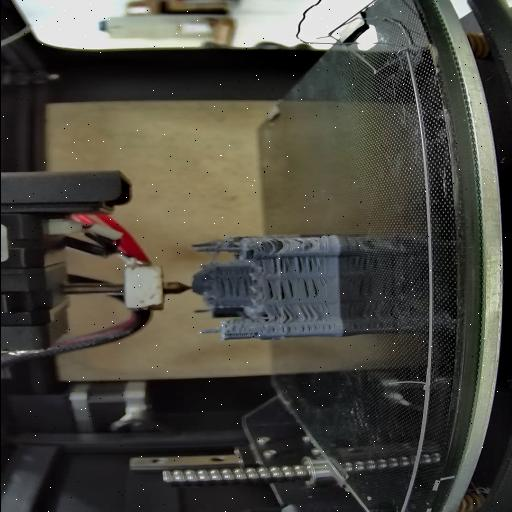cracks: (216, 276, 248, 298), (264, 278, 294, 300), (298, 303, 326, 323), (302, 278, 330, 298), (269, 324, 333, 332), (294, 254, 322, 272), (271, 304, 296, 324), (267, 256, 292, 274), (290, 238, 314, 252), (264, 238, 284, 252), (247, 328, 261, 338)
